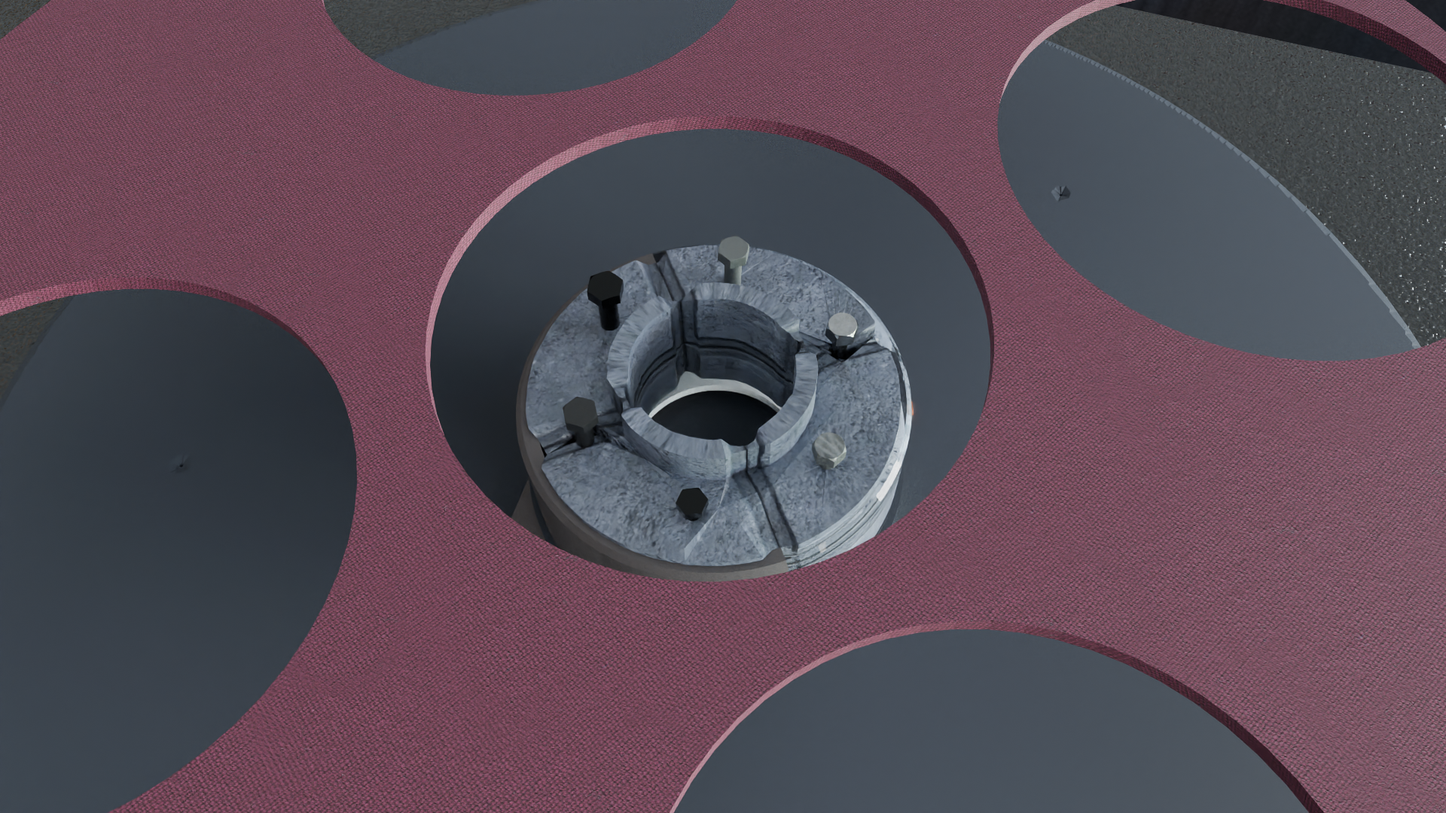bolt: (587, 271, 623, 301), (563, 397, 597, 428), (813, 432, 847, 462), (826, 312, 859, 339), (676, 488, 708, 515), (718, 236, 749, 261)
